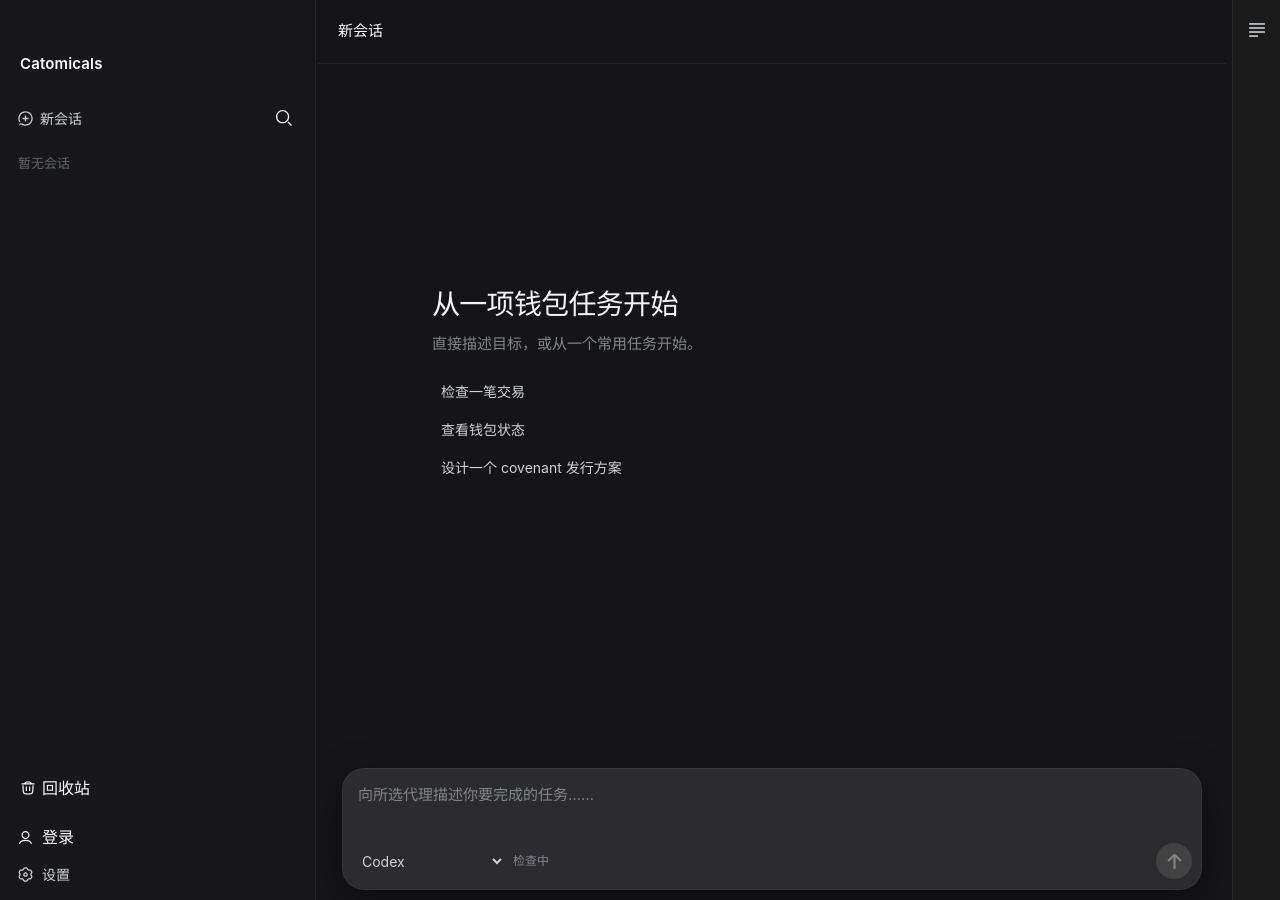
Test: session-backed conversation › interrupts the real executor process and closes the turn as interrupted
Type "持续运行" into the text box with placeholder "向所选代理描述你要完成的任务……".
click(772, 805); type("持续运行")  # box [343, 769, 1201, 841]
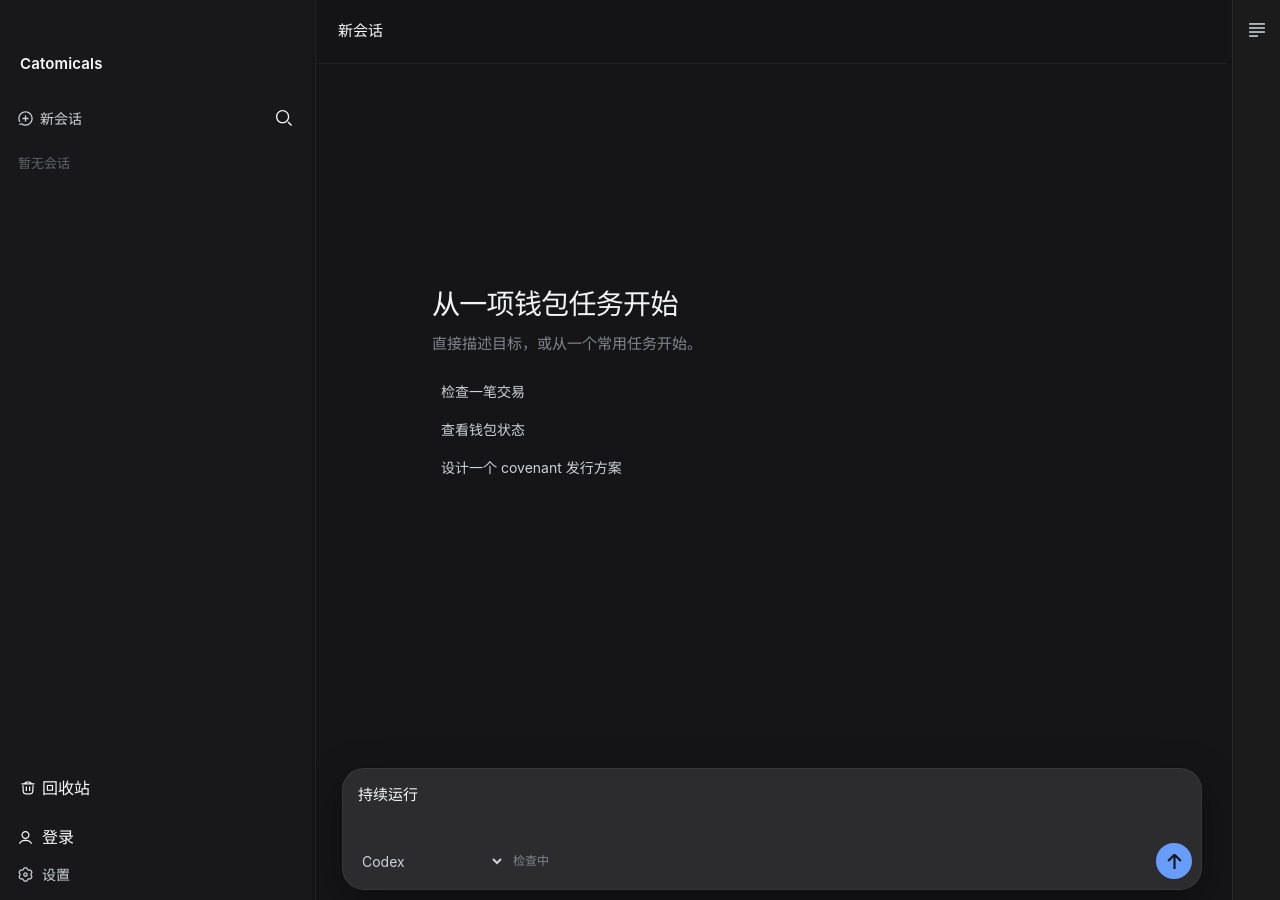
Click the button named "发送消息".
click(1174, 861)  # box [1156, 843, 1192, 879]
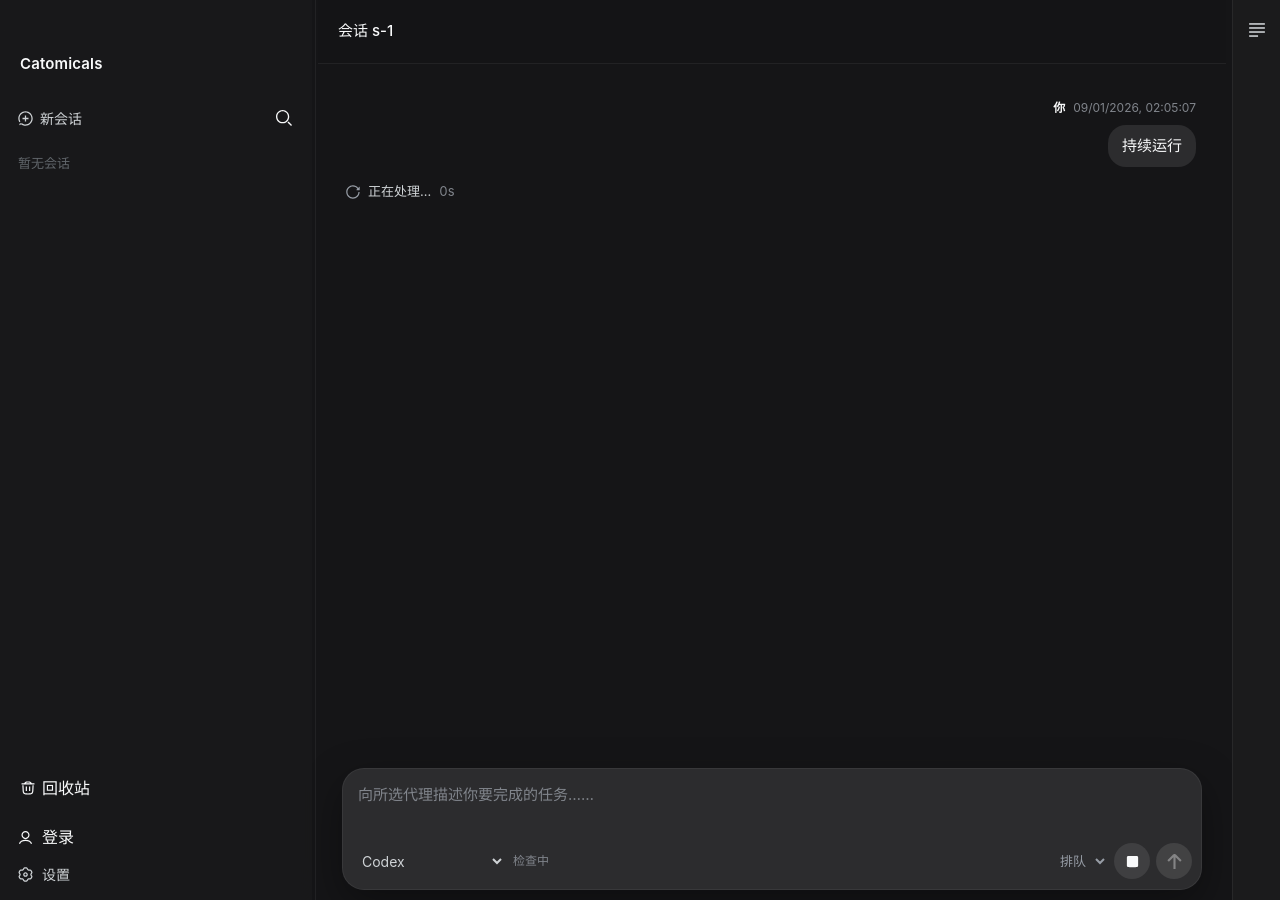
Check: the text "正在处理…" is shown, box [368, 182, 431, 202]
Click the button named "停止生成".
click(1132, 861)  # box [1114, 843, 1150, 879]
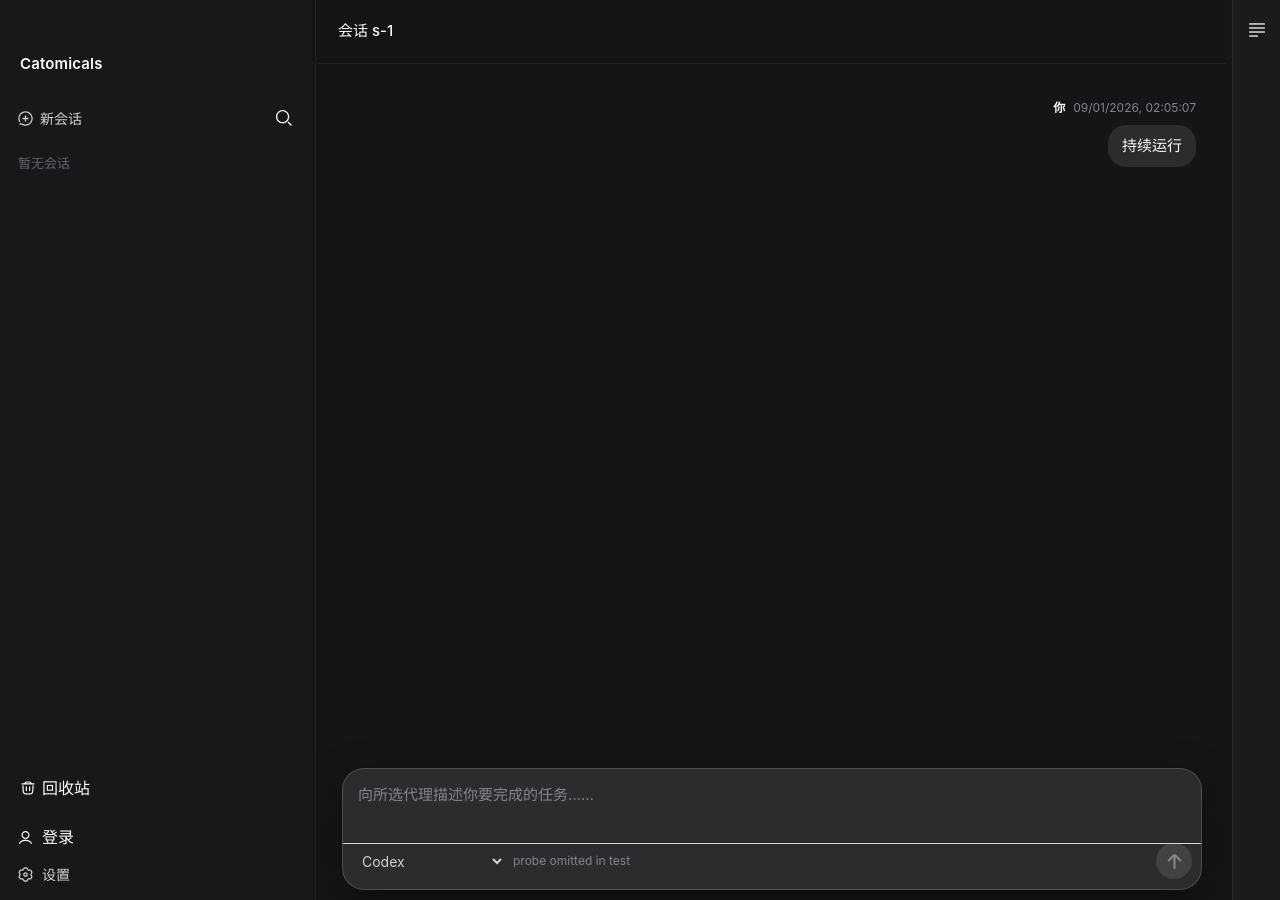
Check: the text "正在处理" is gone
